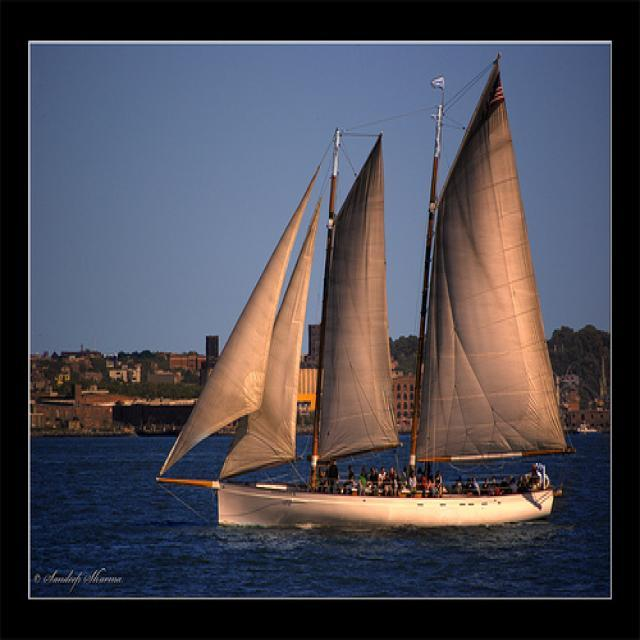Ship: (162, 74, 573, 529)
